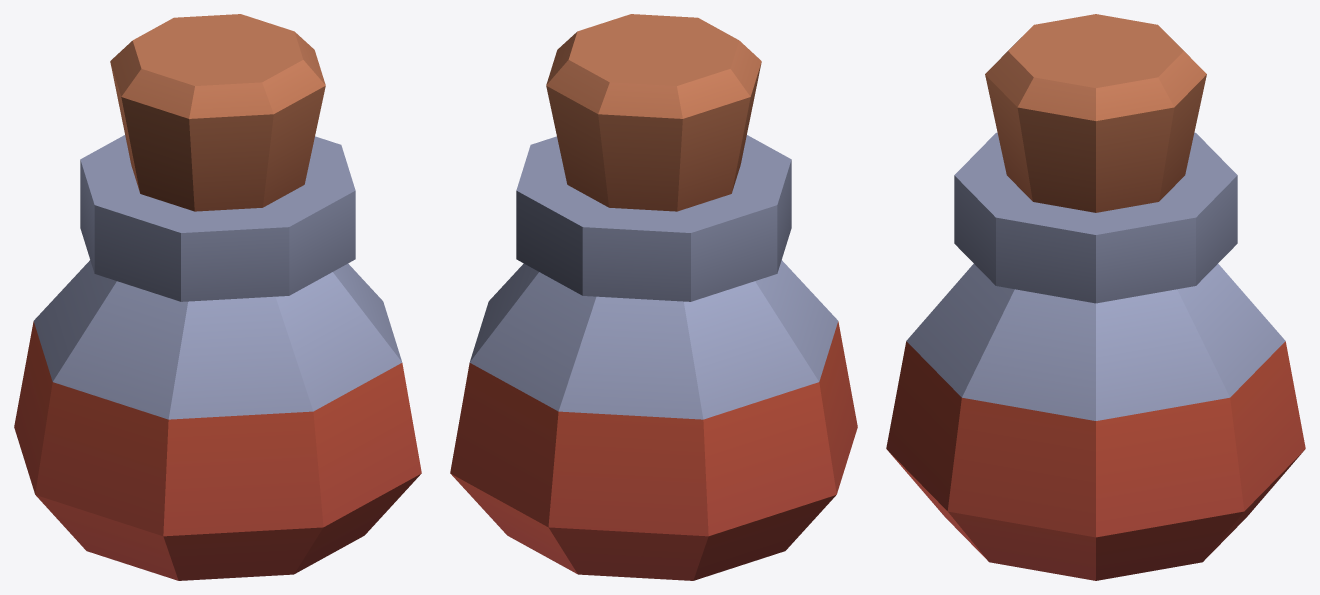
File: potion.glb
3 renders of one model, left to right at view 1: azimuth 30°, elevation 25°; view 2: azimuth 150°, elevation 25°; view 3: azimuth 270°, elevation 25°, orthographic.
Visible parts, largest first — view 1: geometry_0; view 2: geometry_0; view 3: geometry_0.
Part boxes in pixels (x1=…): geometry_0: x1=14, y1=14, x2=421, y2=580; geometry_0: x1=450, y1=14, x2=857, y2=580; geometry_0: x1=886, y1=14, x2=1305, y2=580.
Size of the model in its own units: 0.6772 by 0.83 by 0.6772.
